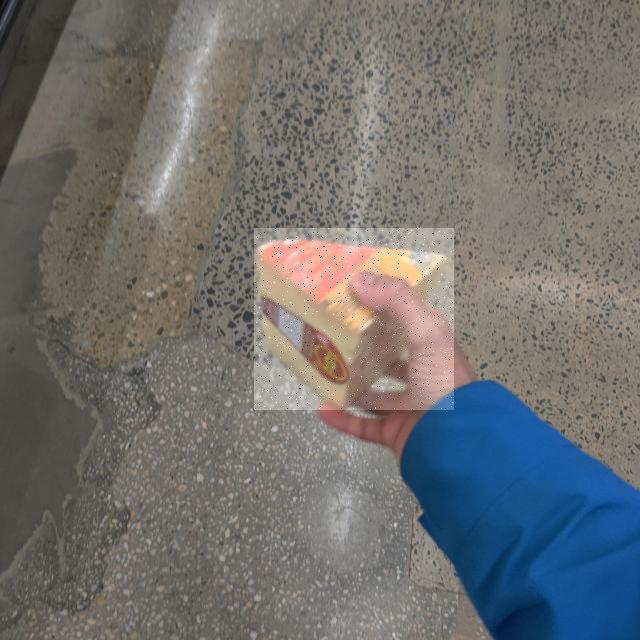cheese: (28, 205, 482, 615)
